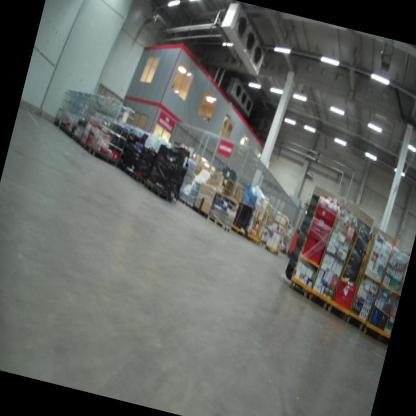pallet: (143, 179, 180, 205), (205, 211, 234, 234), (130, 171, 152, 189), (178, 193, 197, 209)
